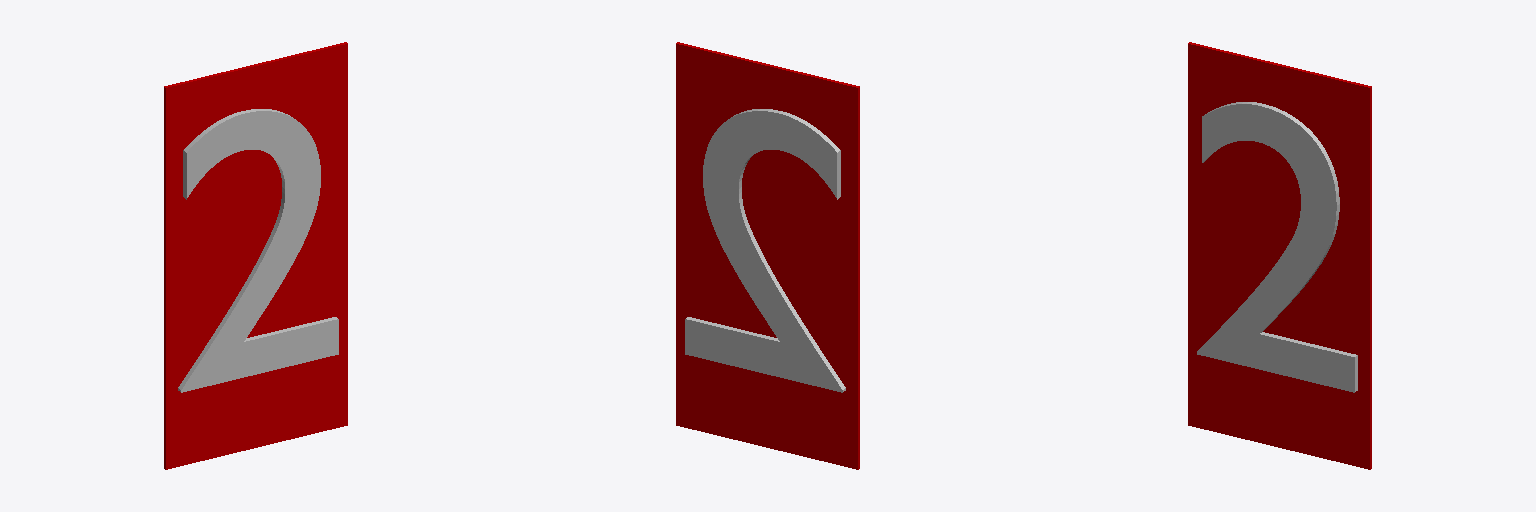
Rendered from room2.obj.
The picture shows the model from 3 angles: view 1: azimuth 30°, elevation 25°; view 2: azimuth 150°, elevation 25°; view 3: azimuth 330°, elevation 25°; orthographic projection.
Parts seen in each view (by area): view 1: Cube, Text; view 2: Cube, Text; view 3: Cube, Text.
Part boxes in pixels (bbox=[...]): Cube: bbox=[164, 42, 347, 469]; Text: bbox=[178, 109, 338, 392]; Cube: bbox=[676, 42, 859, 469]; Text: bbox=[685, 109, 845, 392]; Cube: bbox=[1188, 42, 1371, 469]; Text: bbox=[1197, 102, 1357, 392].
Bounding box in the file's own units: 1 × 2 × 0.08.